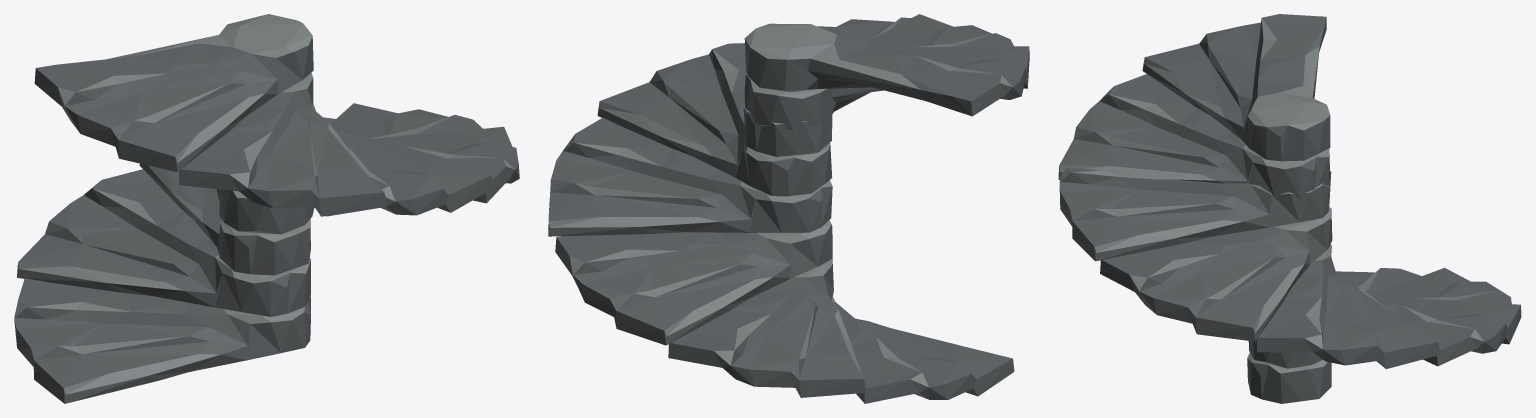
Rendered from MCastle_Steps_07.FBX.
The picture shows the model from 3 angles, left to right: view 1: azimuth 30°, elevation 25°; view 2: azimuth 150°, elevation 25°; view 3: azimuth 270°, elevation 25°; orthographic projection. The views are drawn at different scales.
Visible parts, largest first — view 1: MCastle_Steps_07_LOD0; view 2: MCastle_Steps_07_LOD0; view 3: MCastle_Steps_07_LOD0.
Boxes of the visible parts, left/top/right/bottom form: MCastle_Steps_07_LOD0: left=14, top=14, right=519, bottom=403; MCastle_Steps_07_LOD0: left=548, top=14, right=1029, bottom=403; MCastle_Steps_07_LOD0: left=1058, top=14, right=1521, bottom=403.
Size of what is drawn, in the model's own units: 6.61 by 4.49 by 6.68.
